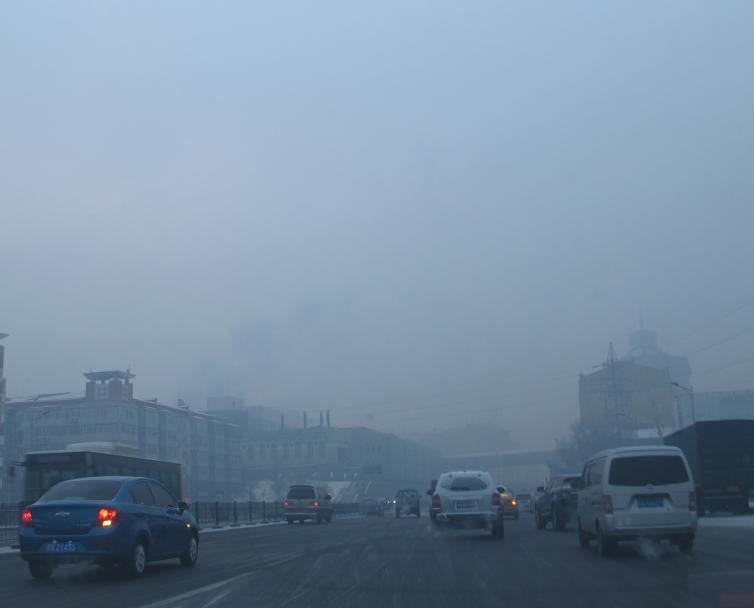bus: (5, 439, 185, 548), (652, 417, 754, 516)
car: (15, 472, 200, 581), (569, 442, 696, 557), (424, 467, 508, 538), (532, 472, 595, 534), (281, 481, 333, 524), (479, 481, 518, 520), (393, 487, 422, 520), (357, 495, 385, 515)
